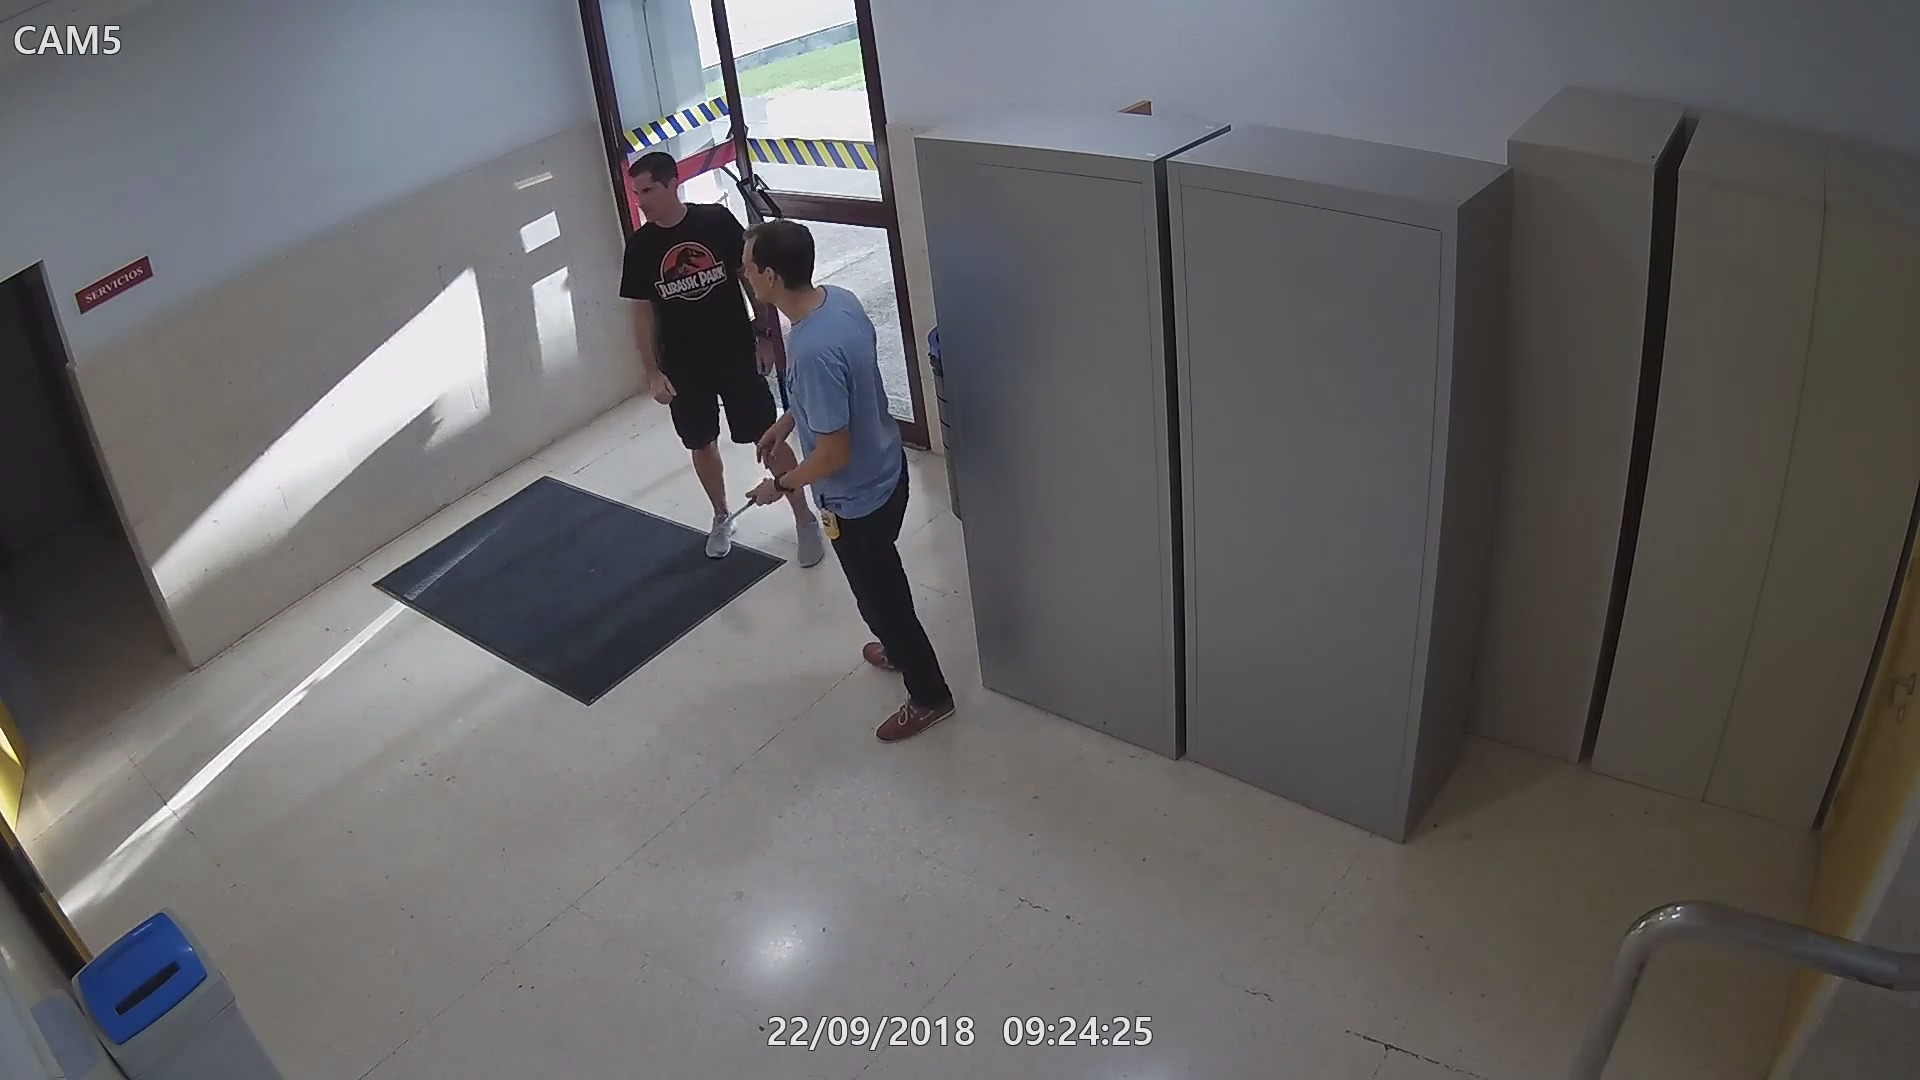Knife: (720, 487, 778, 527)
